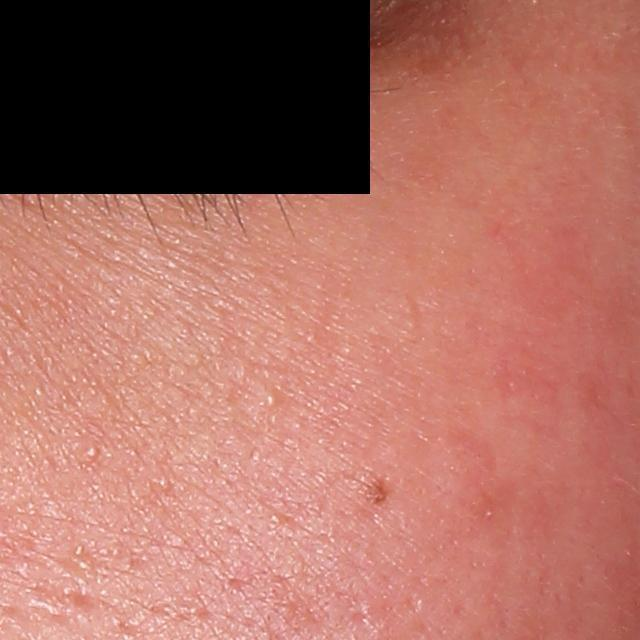comedo: (77, 438, 106, 466), (259, 387, 286, 410)
nevus: (366, 482, 397, 505)
